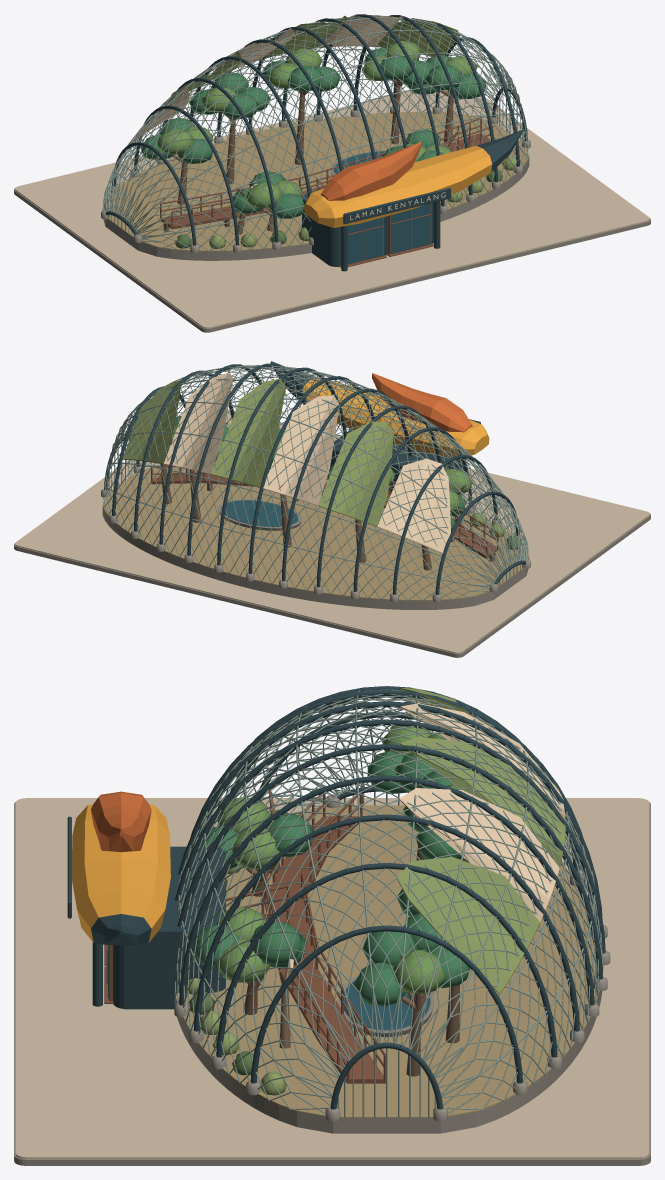
3 views of the same model, one above another, from view 1: azimuth 30°, elevation 25°; view 2: azimuth 150°, elevation 25°; view 3: azimuth 270°, elevation 25° (orthographic). The views are drawn at different scales.
Visible parts, largest first — view 1: Visitor Walk, Tension Net, Forest Enclosure, Habitat Planting, Bent Portal Ribs, Casque Gate; view 2: Bent Portal Ribs, Visitor Walk, Forest Enclosure, Tension Net, Casque Gate, Habitat Planting; view 3: Visitor Walk, Bent Portal Ribs, Tension Net, Forest Enclosure, Habitat Planting, Casque Gate.
Part boxes in pixels (left/top/right/bottom): Visitor Walk: left=14, top=90, right=650, bottom=332; Tension Net: left=103, top=16, right=528, bottom=251; Forest Enclosure: left=102, top=112, right=529, bottom=260; Habitat Planting: left=140, top=41, right=516, bottom=248; Bent Portal Ribs: left=101, top=14, right=530, bottom=252; Casque Gate: left=302, top=130, right=522, bottom=271; Bent Portal Ribs: left=101, top=363, right=530, bottom=602; Visitor Walk: left=14, top=409, right=650, bottom=657; Forest Enclosure: left=102, top=463, right=529, bottom=609; Tension Net: left=103, top=365, right=528, bottom=600; Casque Gate: left=270, top=361, right=489, bottom=495; Habitat Planting: left=160, top=416, right=521, bottom=570; Visitor Walk: left=14, top=791, right=650, bottom=1165; Bent Portal Ribs: left=174, top=686, right=610, bottom=1121; Tension Net: left=175, top=689, right=603, bottom=1117; Forest Enclosure: left=174, top=805, right=602, bottom=1133; Habitat Planting: left=186, top=726, right=470, bottom=1095; Casque Gate: left=67, top=791, right=225, bottom=1009.
Size of the model in its own units: 29.2 by 10.1 by 21.8.
